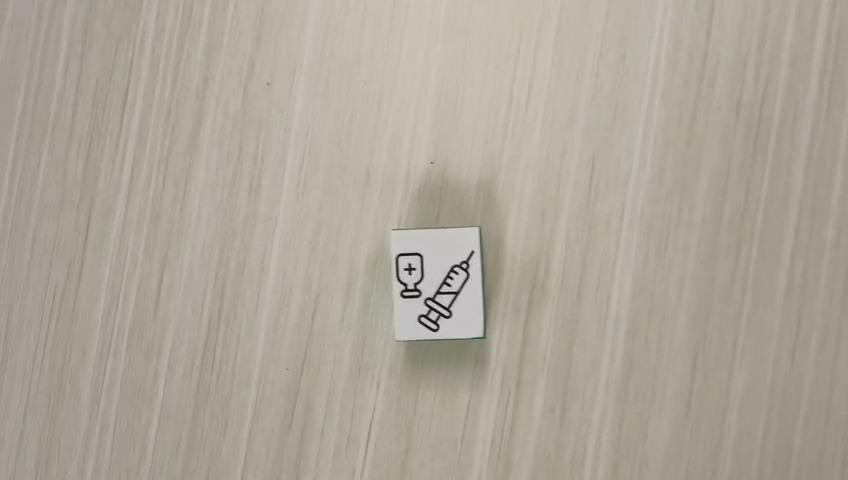antiseptic cream: (388, 225, 486, 342)
